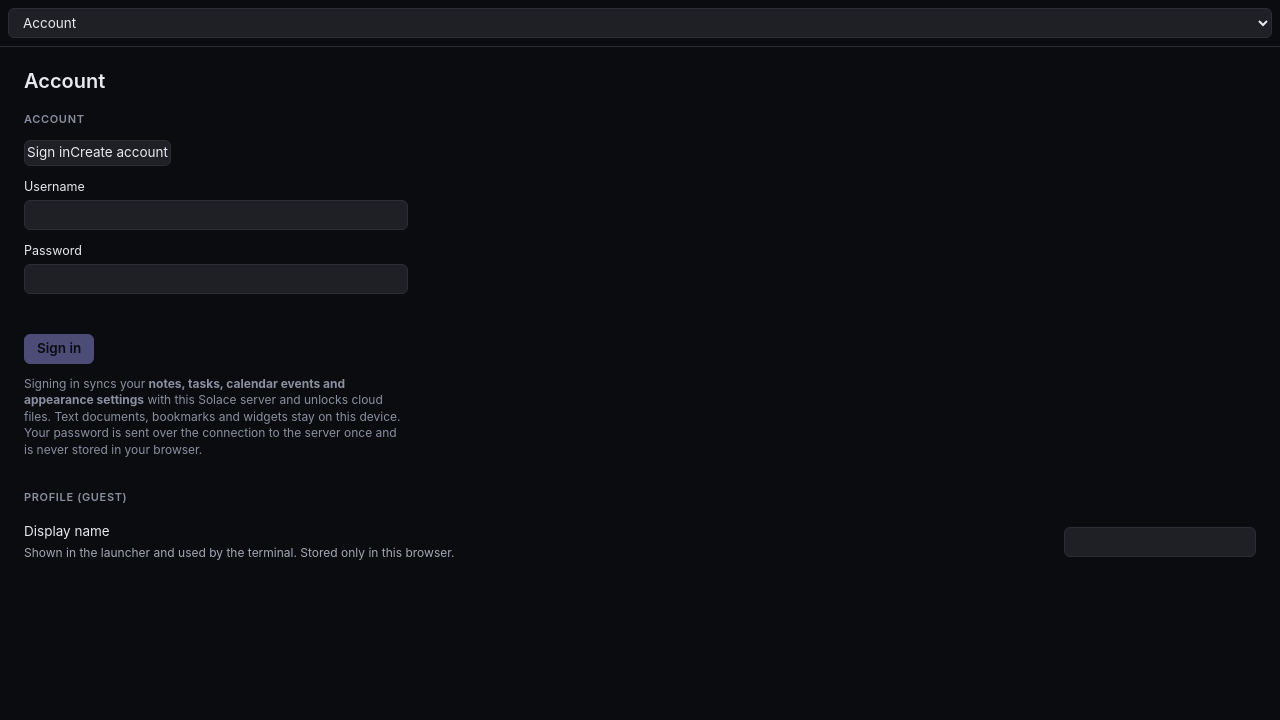
Account (backend) settings › reports bad credentials without saying which part was wrong, and handles rate limiting
This screenshot has width=1280, height=720.
Type "ada" into the field labelled "Username" at (216, 215), box top-left (24, 200), bottom-right (408, 230)
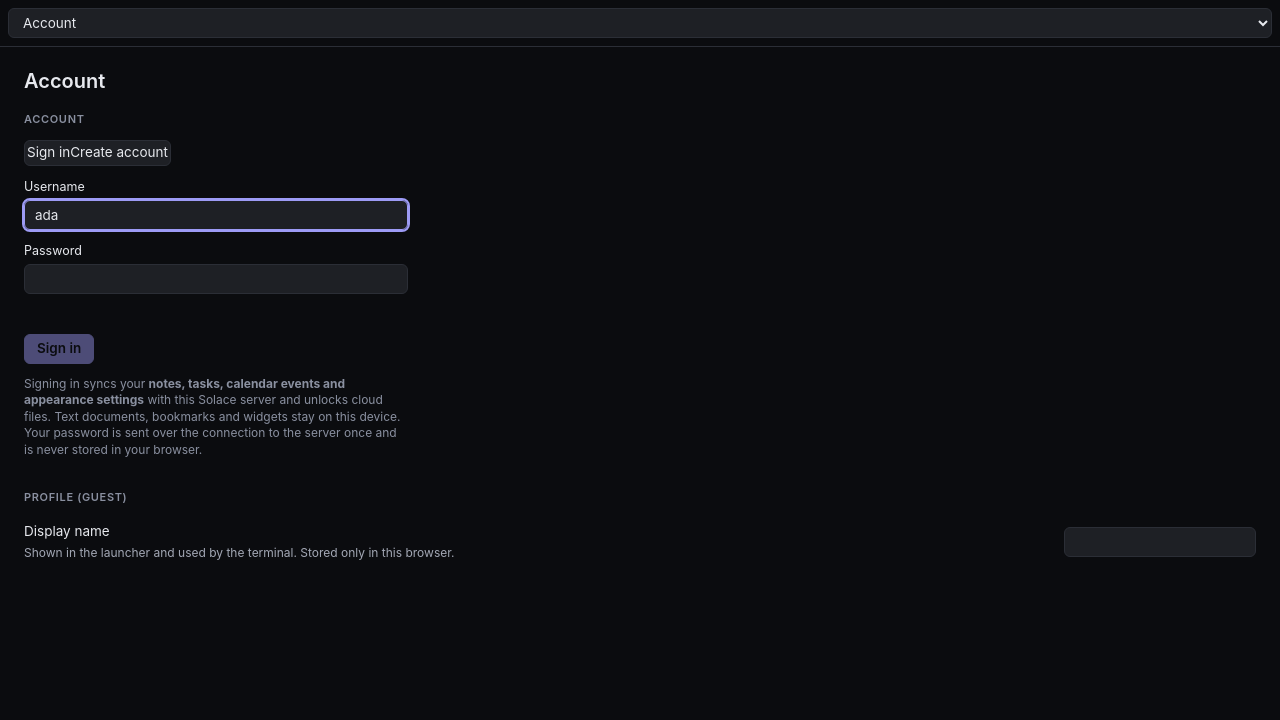
Type "wrong password" into the password field labelled "Password" at (216, 279), box top-left (24, 264), bottom-right (408, 294)
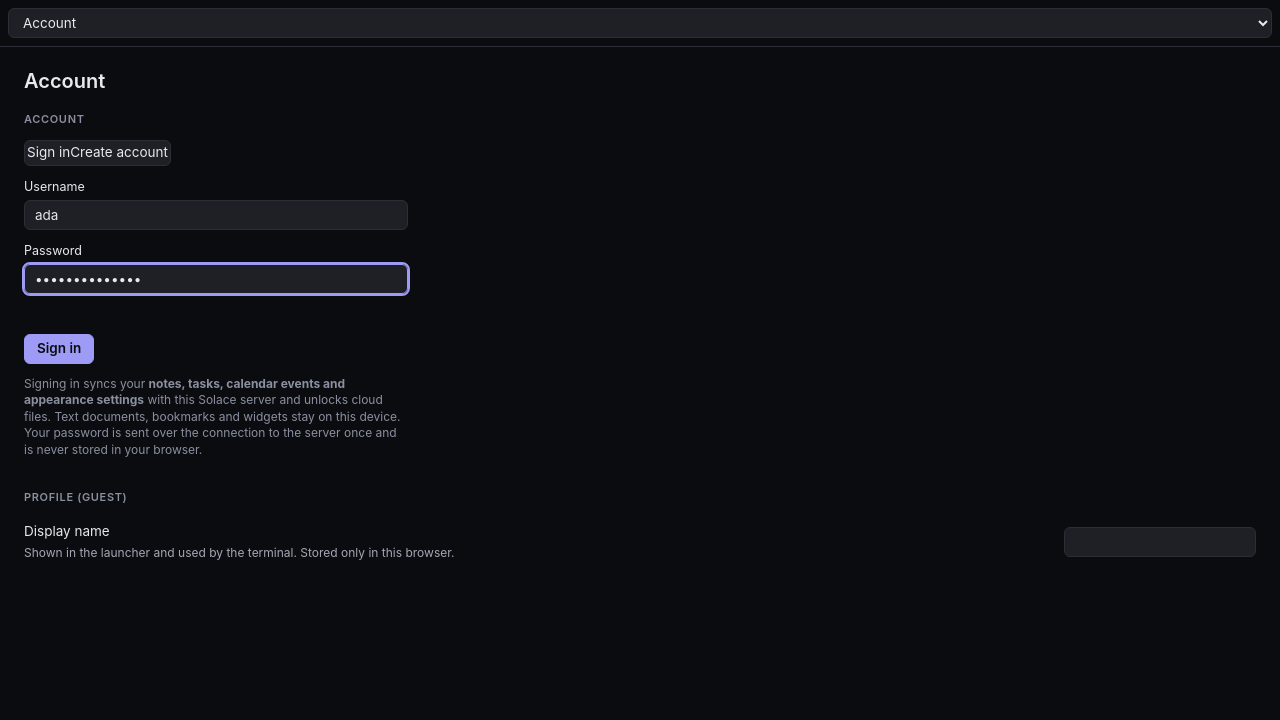
Click the button "Sign in" at (59, 349), box top-left (24, 334), bottom-right (94, 364)
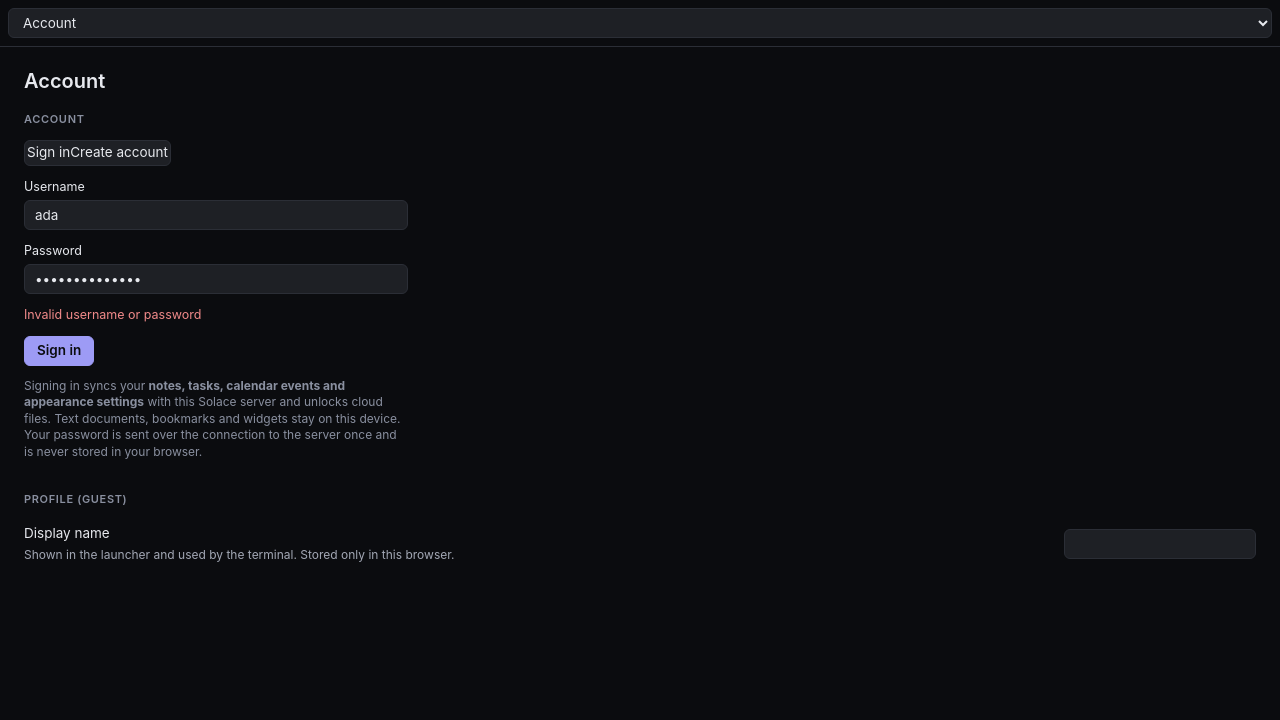
expect the message reads "Invalid username or password": met, box top-left (24, 307), bottom-right (202, 322)
Click the button "Sign in" at (59, 351), box top-left (24, 336), bottom-right (94, 366)
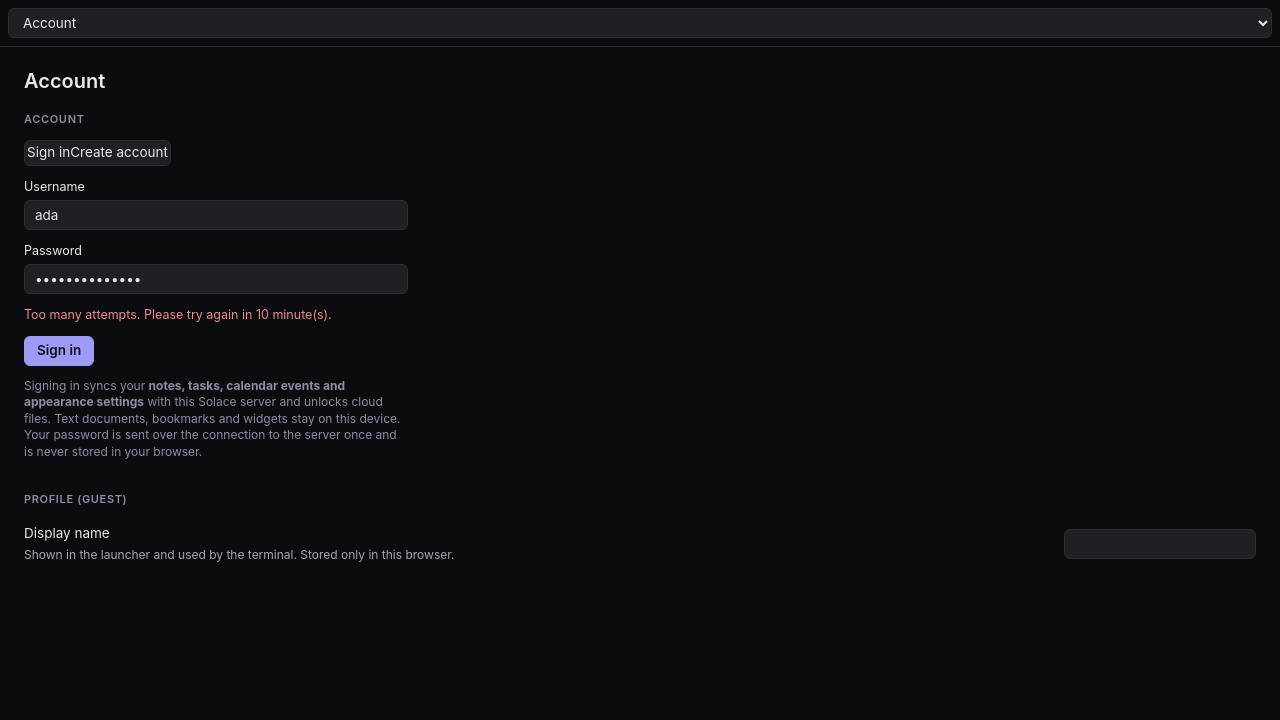
expect the message reads "Too many attempts. Please try again in 10 minute(s).": met, box top-left (24, 307), bottom-right (332, 322)
